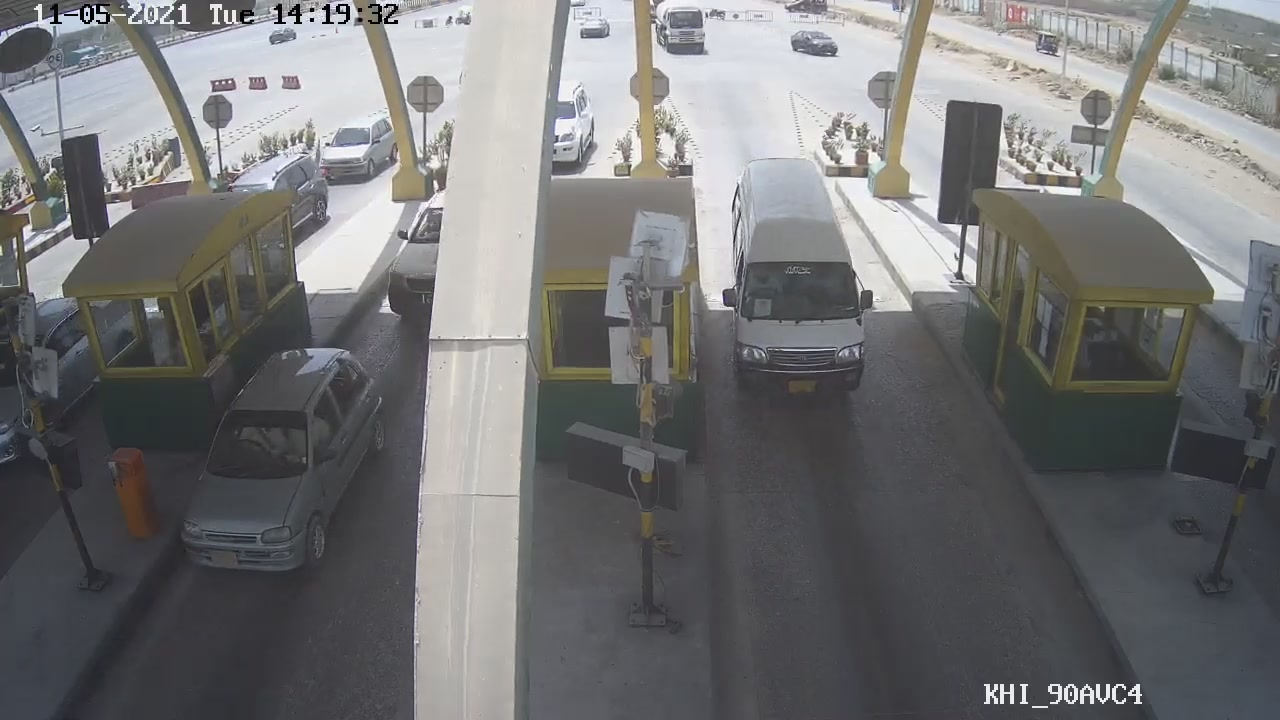F2: (714, 161, 874, 396)
